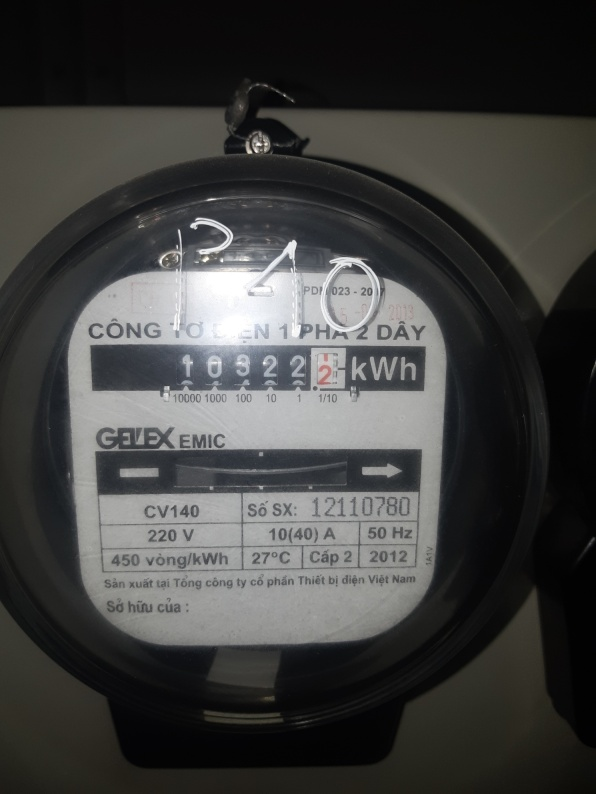counter: (87, 344, 429, 391)
electricity_meter: (2, 160, 550, 706)
